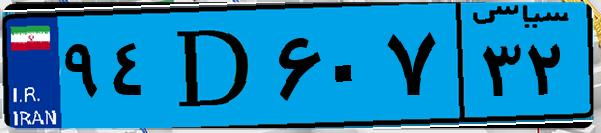0: (330, 28, 385, 110)
2: (525, 38, 570, 115)
3: (475, 38, 525, 113)
4: (110, 28, 158, 98)
6: (270, 28, 330, 110)
7: (385, 28, 445, 110)
9: (57, 26, 110, 100)
D: (158, 12, 270, 120)
